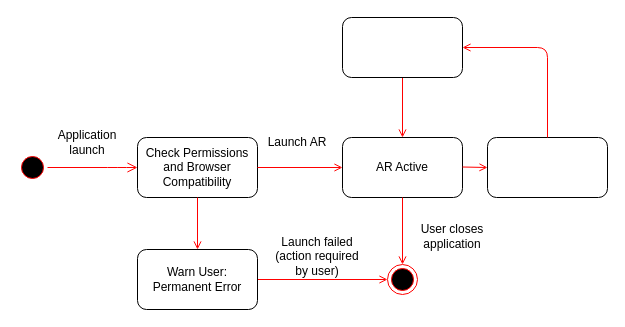
Image size: 625x327. Some labels were removed from this diagram. The shapes that lost their labels are listed below. From the top down, each one's centre as x and y in pixels, then its label:
[402,47]: Warn User: Temporary Error (update error status)
[547,167]: Check GPS signal quality
